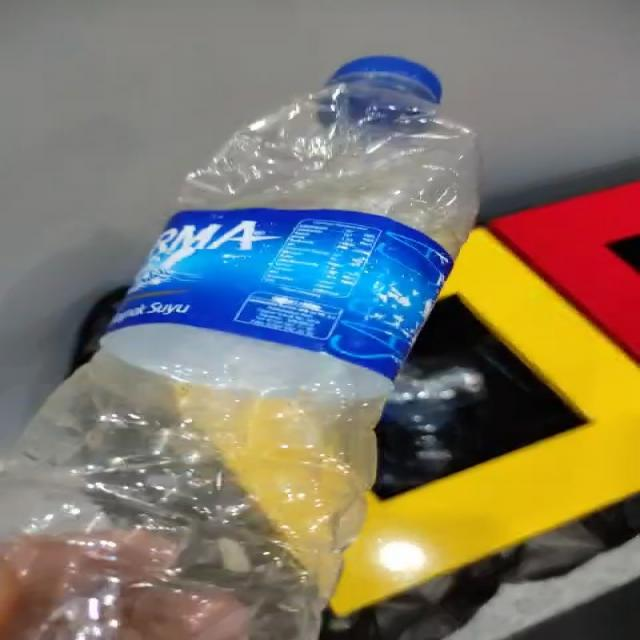plastic: (3, 56, 479, 640)
